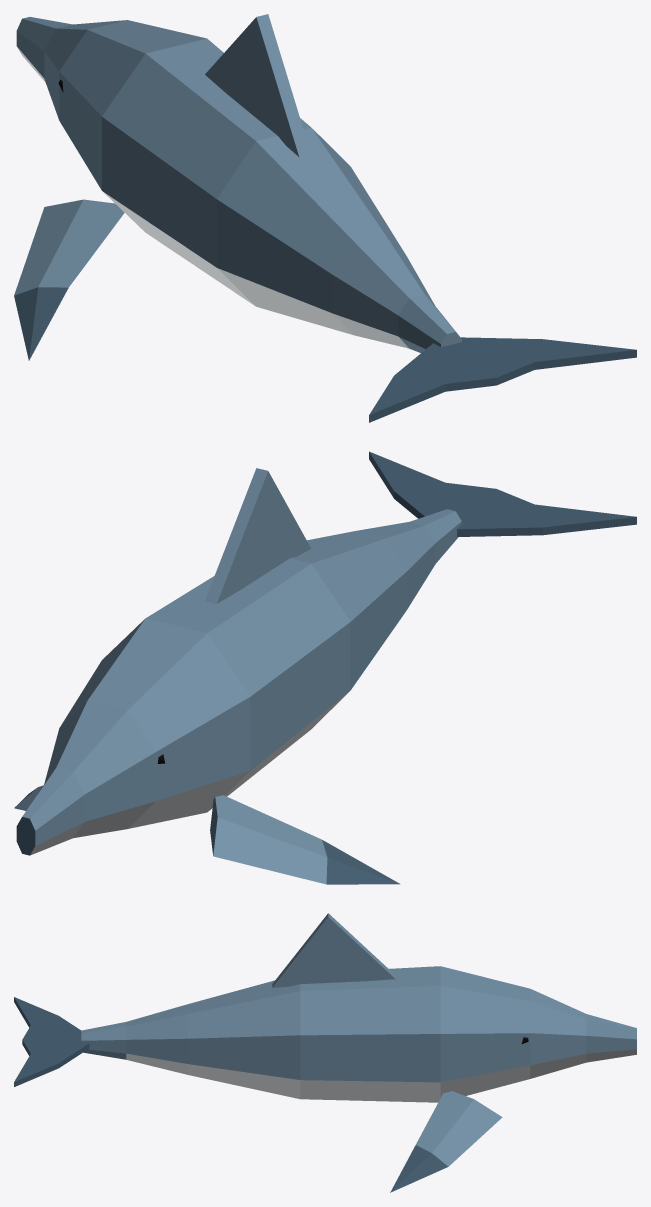
The model's file is dolphin.glb.
3 views of the same model, one above another, from view 1: azimuth 30°, elevation 25°; view 2: azimuth 150°, elevation 25°; view 3: azimuth 270°, elevation 25° (orthographic). The views are drawn at different scales.
Visible parts, largest first — view 1: Body, Fin_Tail, Fin_L, Fin_Dorsal; view 2: Body, Fin_Tail, Fin_L, Fin_Dorsal; view 3: Body, Fin_Tail, Fin_R, Fin_Dorsal.
Boxes of the visible parts, bbox=[...] form: Body: bbox=[16, 17, 434, 348]; Fin_Tail: bbox=[369, 294, 636, 422]; Fin_L: bbox=[14, 199, 124, 360]; Fin_Dorsal: bbox=[205, 14, 310, 157]; Body: bbox=[16, 522, 435, 855]; Fin_Tail: bbox=[369, 451, 636, 563]; Fin_L: bbox=[210, 795, 400, 884]; Fin_Dorsal: bbox=[205, 468, 310, 603]; Body: bbox=[126, 966, 636, 1102]; Fin_Tail: bbox=[14, 997, 126, 1086]; Fin_R: bbox=[390, 1091, 502, 1192]; Fin_Dorsal: bbox=[272, 913, 395, 987].
Size of the model in its own units: 0.9 by 0.774 by 2.
